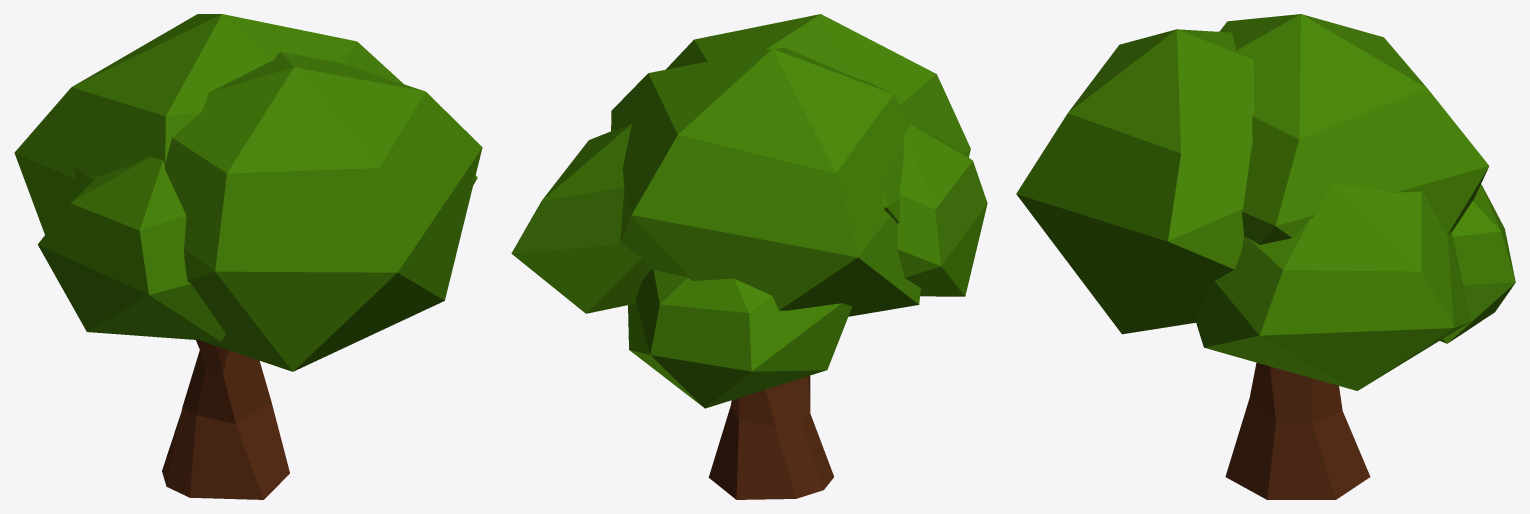
Rendered from T_Oak3.fbx.
The picture shows the model from 3 angles, left to right: view 1: azimuth 30°, elevation 25°; view 2: azimuth 150°, elevation 25°; view 3: azimuth 270°, elevation 25°; orthographic projection. The views are drawn at different scales.
Visible parts, largest first — view 1: Icosphere; view 2: Icosphere; view 3: Icosphere.
Part boxes in pixels (x1,y1,x2,y2): Icosphere: (14,14,482,499); Icosphere: (511,14,987,499); Icosphere: (1016,14,1515,499).
Size of the model in its own units: 8.59 by 9.03 by 8.87.
